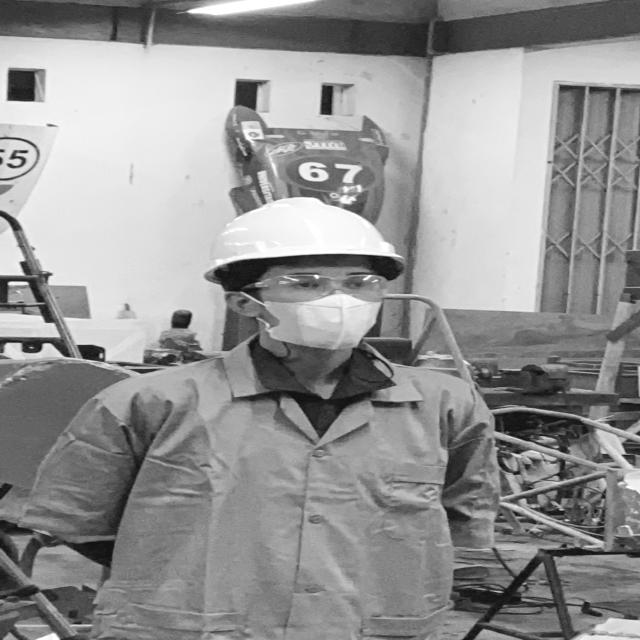face_mask: (248, 268, 390, 352)
glasses: (236, 268, 399, 301)
head_helmet: (198, 192, 418, 272)
person: (19, 190, 530, 640)
